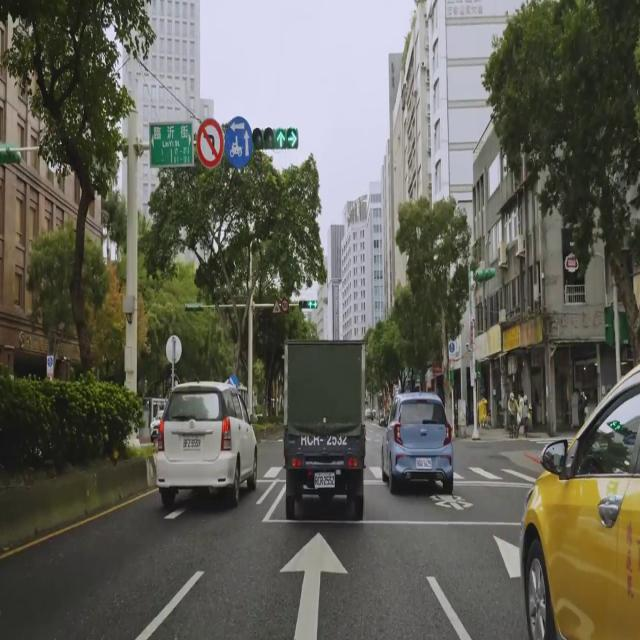green light: (252, 127, 298, 149), (298, 300, 318, 308)
